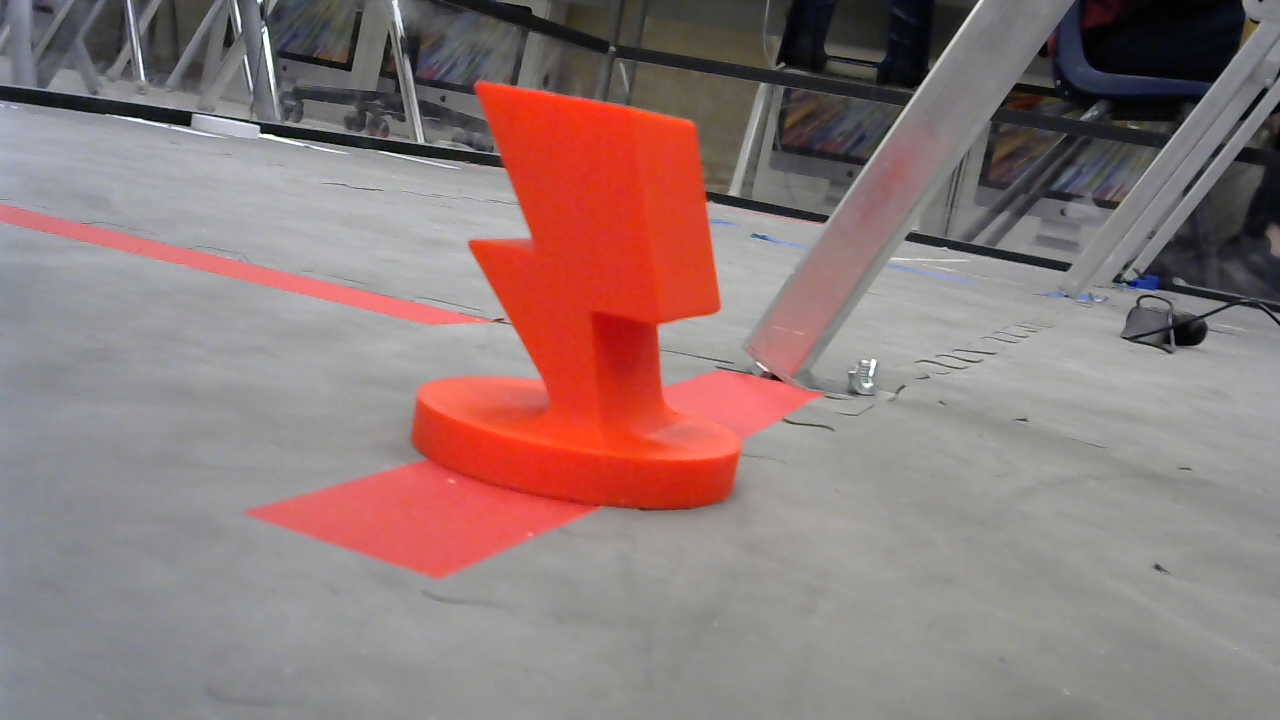redobject: (409, 78, 747, 521)
